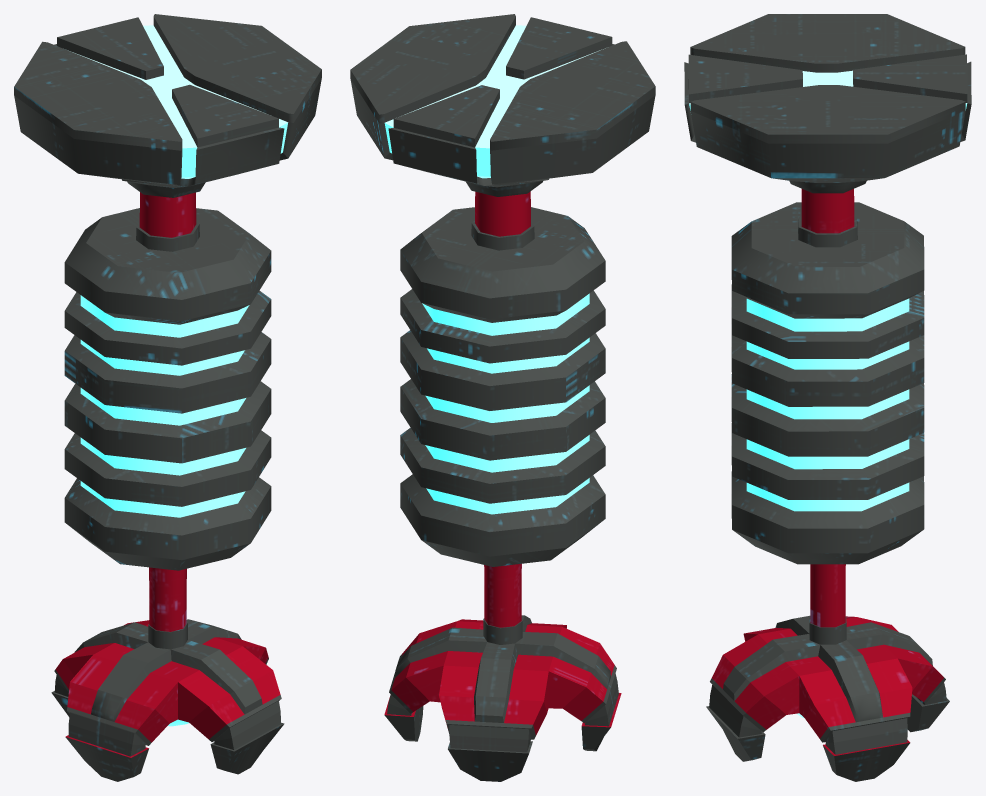
File: ShieldPillar.fbx
3 renders of one model, left to right at view 1: azimuth 30°, elevation 25°; view 2: azimuth 150°, elevation 25°; view 3: azimuth 270°, elevation 25°, orthographic.
Parts seen in each view (by area): view 1: ForceFieldGenerator_One; view 2: ForceFieldGenerator_One; view 3: ForceFieldGenerator_One.
Part boxes in pixels (bbox=[...]): ForceFieldGenerator_One: bbox=[14, 14, 321, 781]; ForceFieldGenerator_One: bbox=[350, 14, 655, 781]; ForceFieldGenerator_One: bbox=[684, 14, 971, 781].
Size of the model in its own units: 511 by 1314 by 512.
